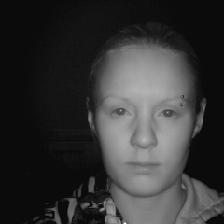normal: (73, 16, 221, 192)
